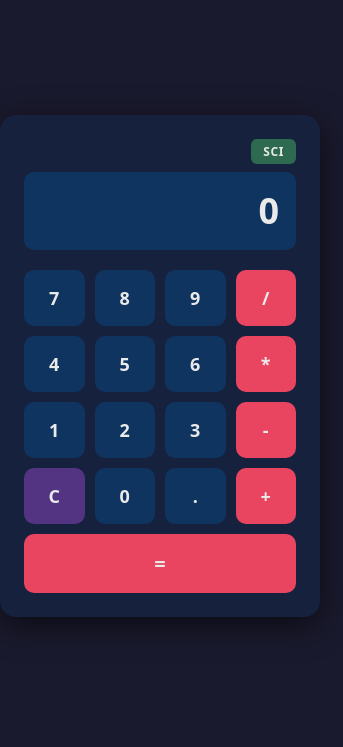
Test: Calculator › clicking the toggle button switches to scientific mode and shows ScientificButtonGrid
This screenshot has width=343, height=747.
Click the button with aria-label "Switch to scientific mode". click: coordinates (274, 152)
box: [251,139,296,164]
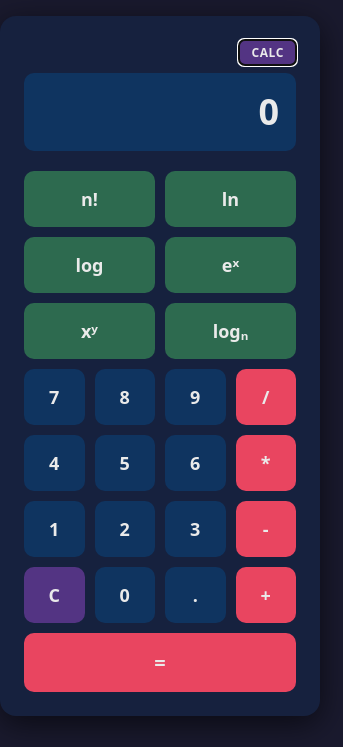
Expected: the element with class "calc-scientific-grid" is shown, [24,171,296,359]
Expected: the button "n!" is shown, [24,171,155,227]
Expected: the button "ln" is shown, [165,171,296,227]
